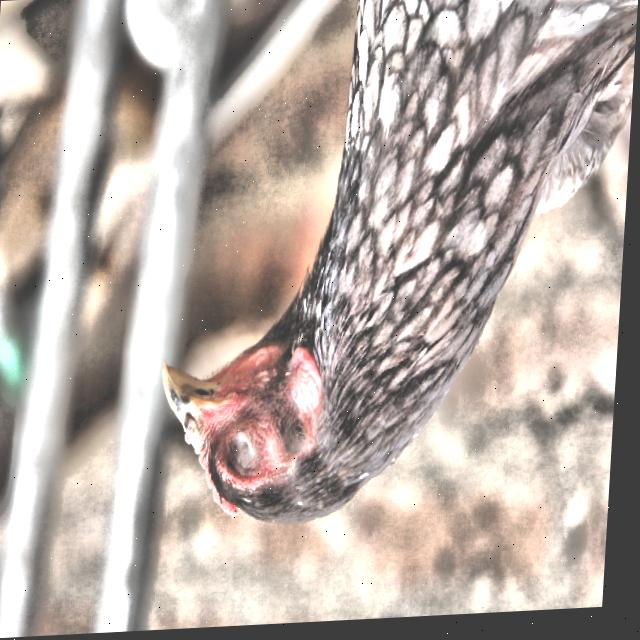Coryza: (141, 239, 476, 566)
